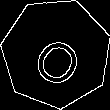O_NE: (24, 20, 88, 87)
